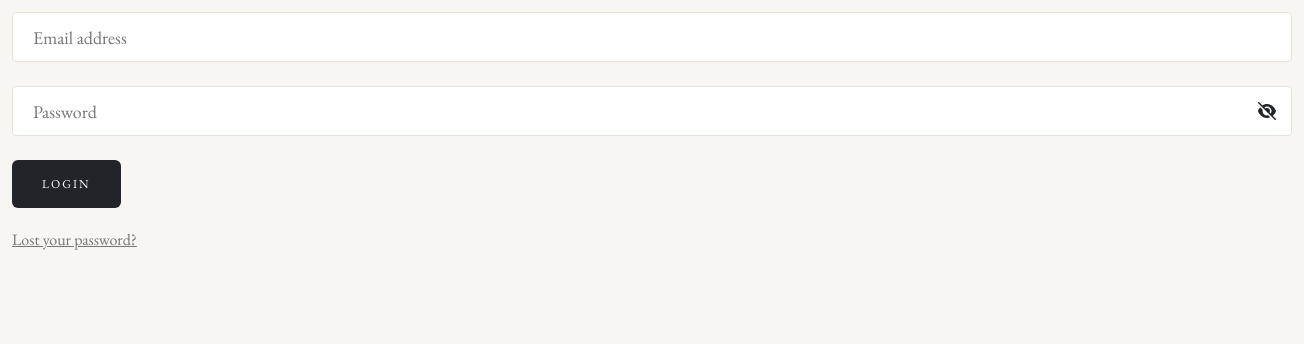
Scenario: LoginForm component › show error notification for user that does not exist on form submission
Step 1. Type "test@example.com" into the field labelled "Email address" → (652, 37), box [12,12,1292,62]
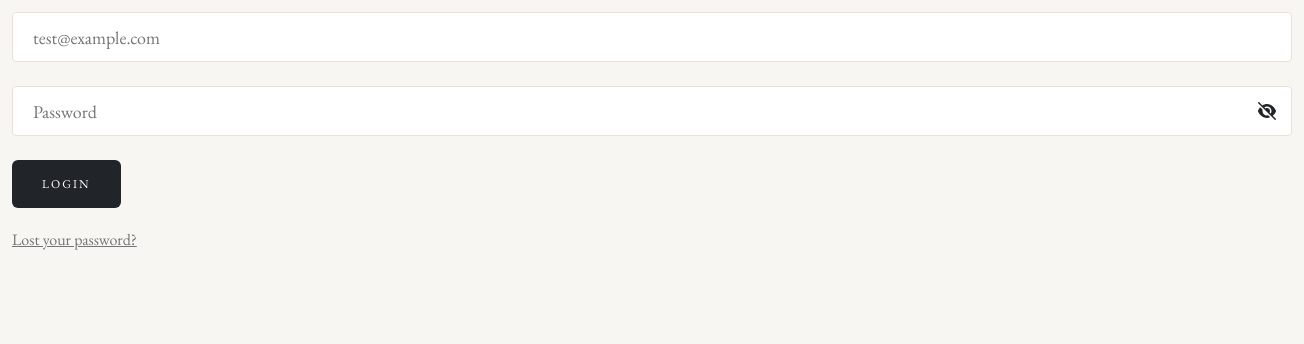
Step 2. Type "password" into the password field labelled "Password" → (652, 111), box [12,86,1292,136]
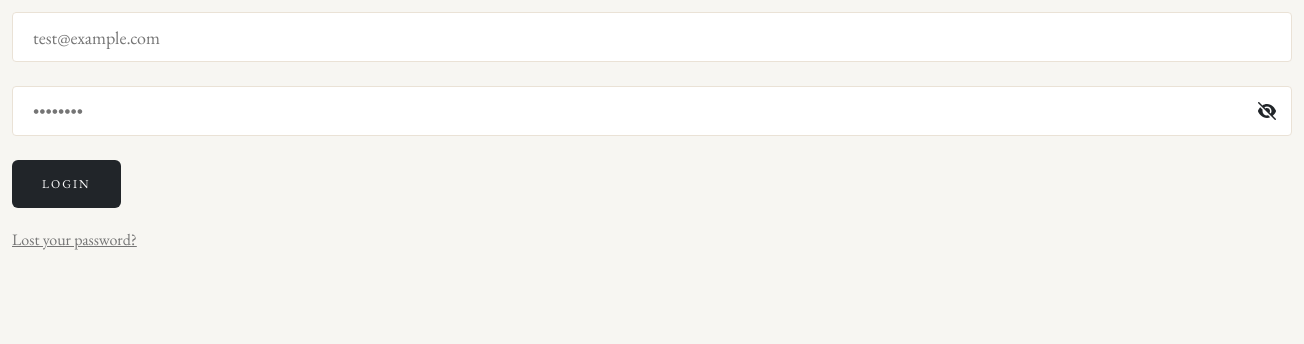
Step 3. Click the button "Login" → (66, 184), box [12,160,120,208]
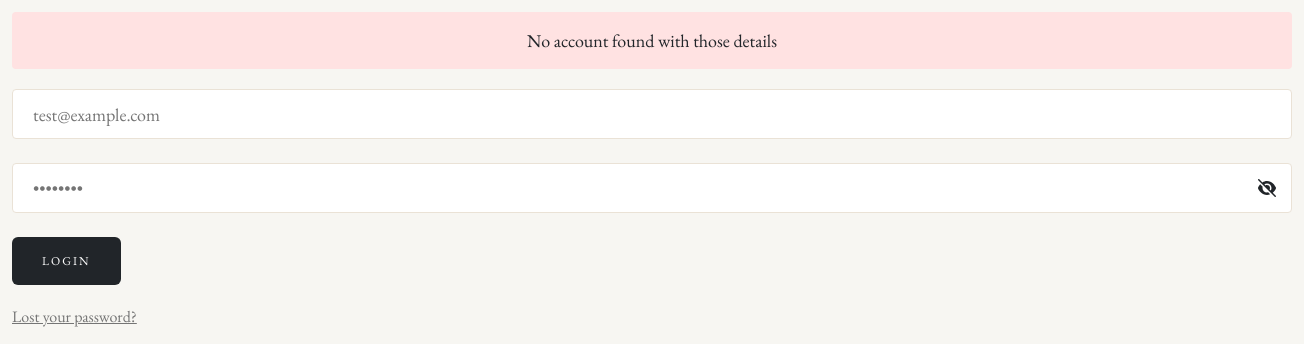
Result: the text "No account found with those details" is shown at [527,29,777,52]
